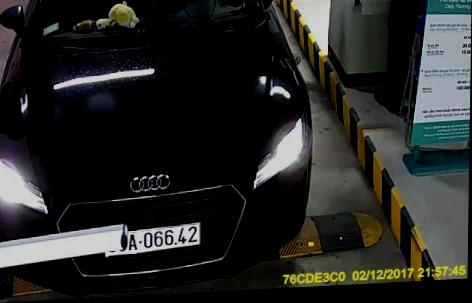License_Plate: (128, 226, 200, 253)
